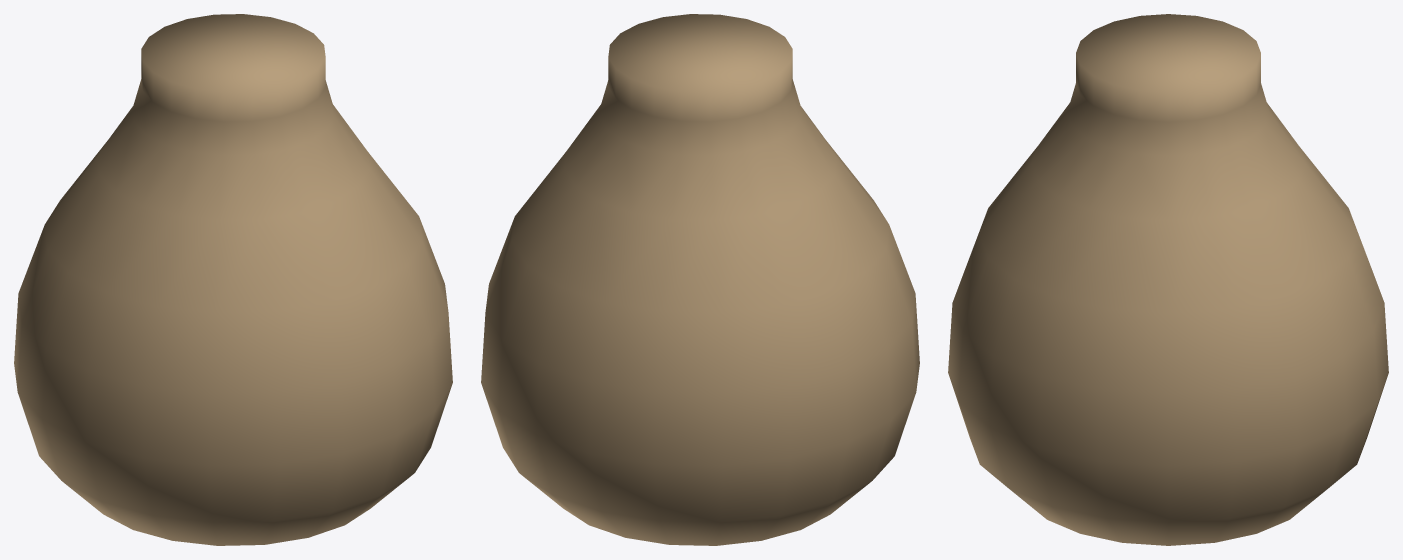
Rendered from fb_glass.glb.
3 views of the same model, side by side, from view 1: azimuth 30°, elevation 25°; view 2: azimuth 150°, elevation 25°; view 3: azimuth 270°, elevation 25° (orthographic).
Parts seen in each view (by area): view 1: fb_glass; view 2: fb_glass; view 3: fb_glass.
Boxes of the visible parts, left/top/right/bottom form: fb_glass: left=14, top=14, right=452, bottom=545; fb_glass: left=481, top=14, right=919, bottom=545; fb_glass: left=948, top=14, right=1388, bottom=545.
Size of the model in its own units: 0.09 by 0.1035 by 0.09.
